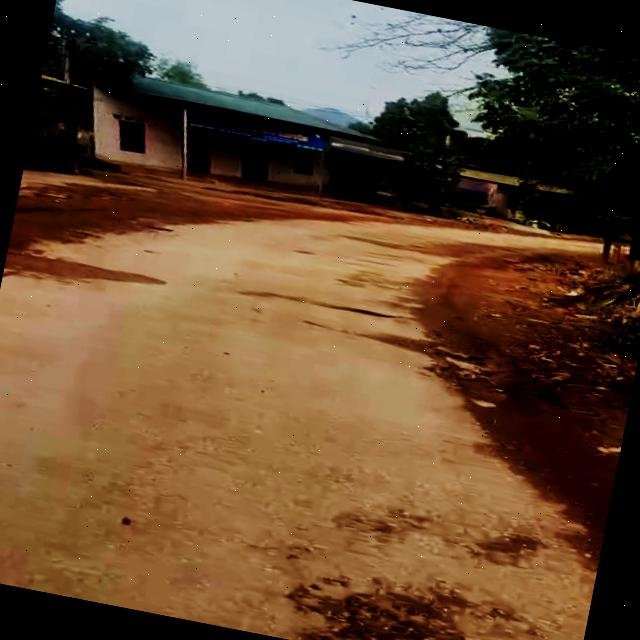pothole: (289, 557, 490, 640)
